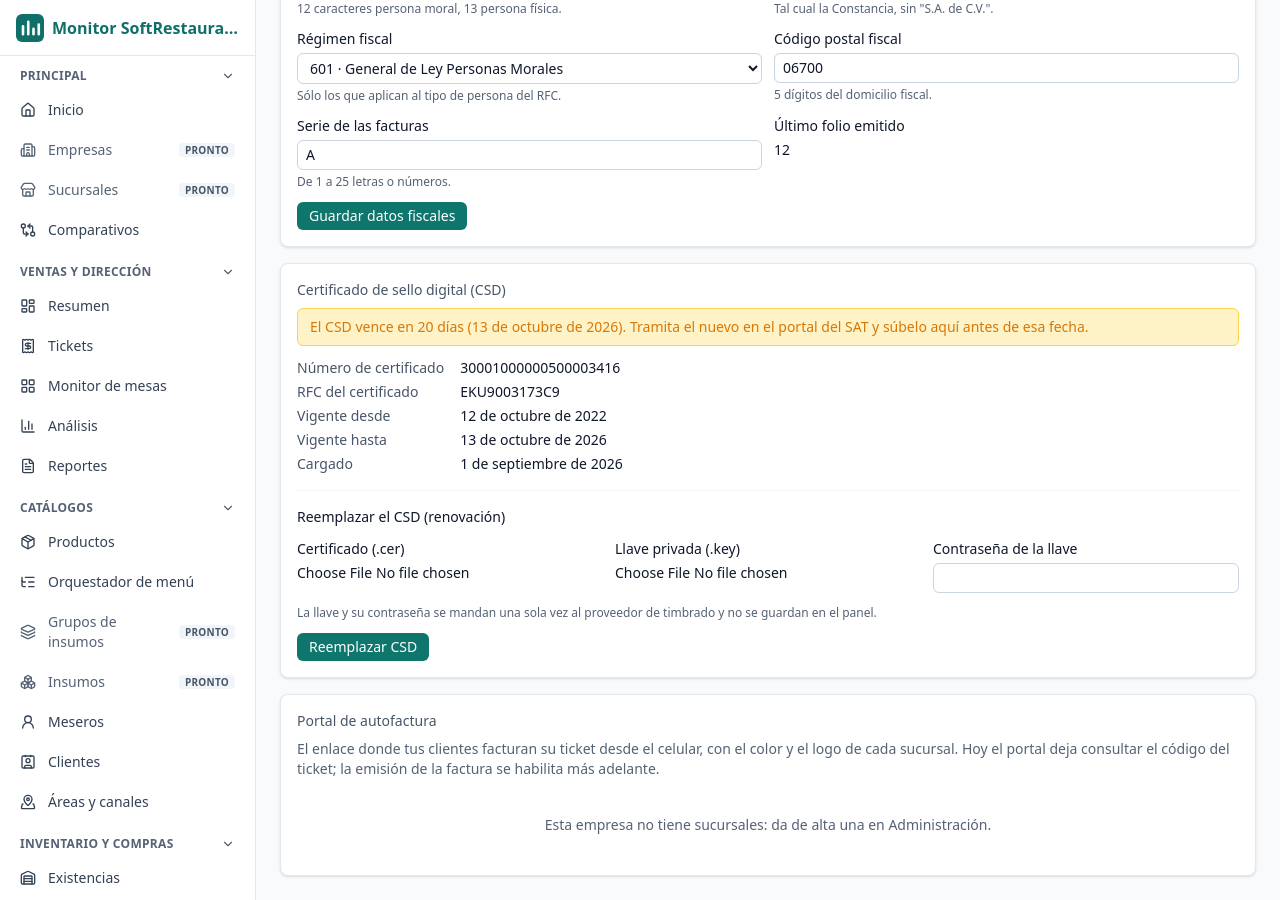
carga del CSD › sin archivos o sin contraseña no manda nada
(page scrolled)
Click the button "Reemplazar CSD". click: (363, 647)
box: top-left (297, 633), bottom-right (429, 661)
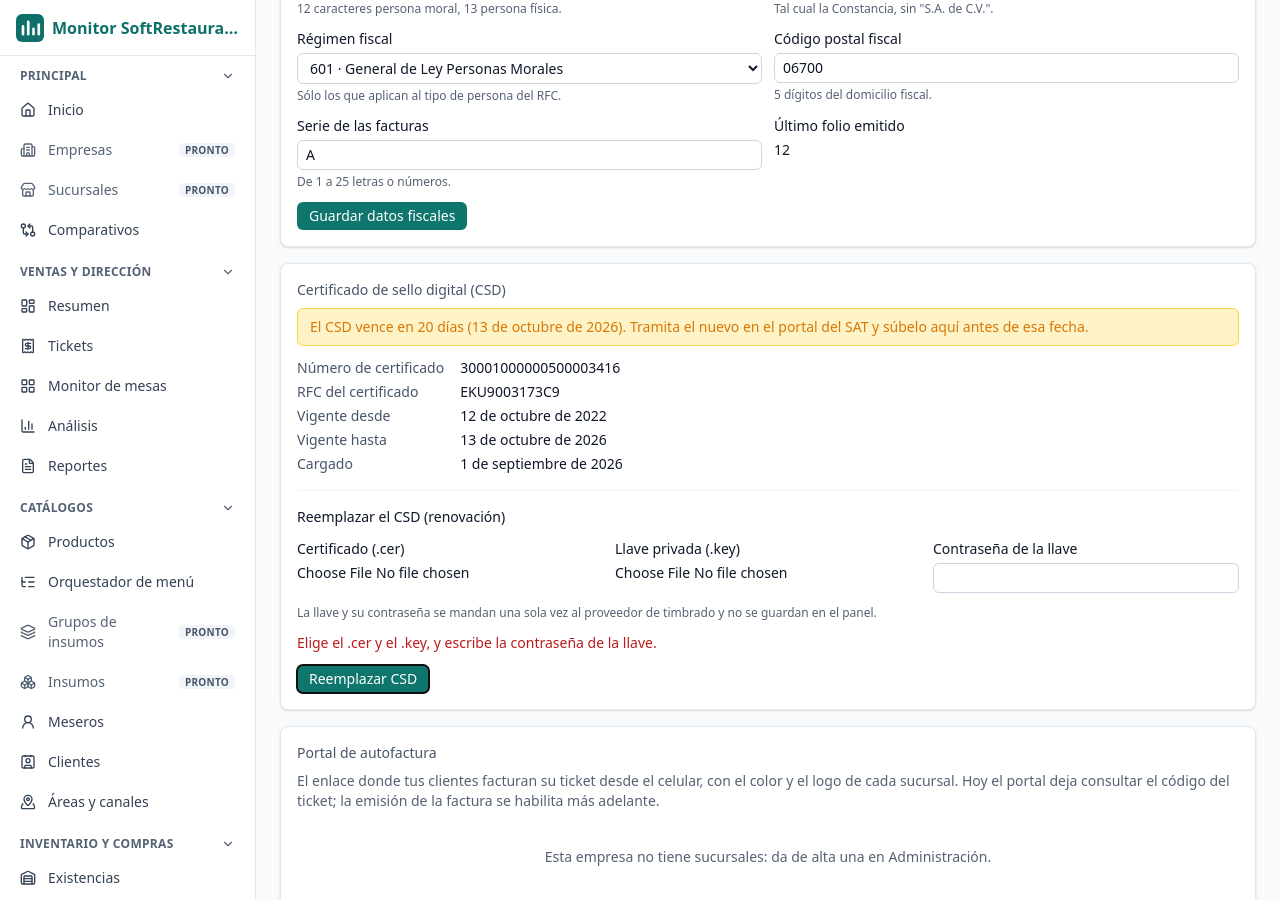
Expected: the message with test id "error-csd" reads "Elige el .cer y el .key, y escribe la contraseña de la llave.", top-left (297, 633), bottom-right (657, 652)
